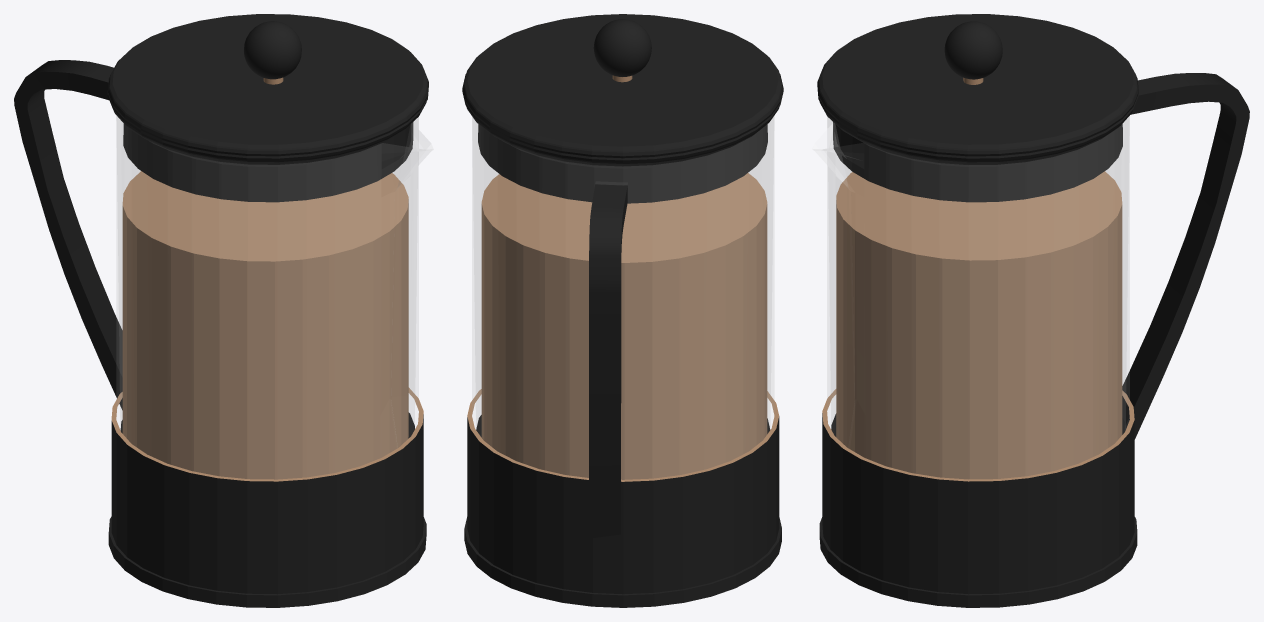
The model's file is 56c021d6-1fe5-4218-a496-bfd0285539f9.glb.
3 views of the same model, side by side, from view 1: azimuth 30°, elevation 25°; view 2: azimuth 150°, elevation 25°; view 3: azimuth 270°, elevation 25° (orthographic).
Visible parts, largest first — view 1: Cylinder005, Object002, Cylinder004, Box002, Sphere002; view 2: Cylinder005, Object002, Cylinder004, Box002, Sphere002; view 3: Cylinder005, Object002, Cylinder004, Box002, Sphere002.
Boxes of the visible parts, x1,y1,x2,y2 form: Cylinder005: (108, 116, 432, 607); Object002: (122, 171, 408, 479); Cylinder004: (107, 14, 428, 202); Box002: (14, 60, 122, 410); Sphere002: (244, 21, 301, 79); Cylinder005: (464, 116, 781, 607); Object002: (481, 173, 767, 479); Cylinder004: (462, 14, 783, 203); Box002: (589, 181, 627, 539); Sphere002: (593, 19, 651, 76); Cylinder005: (813, 116, 1137, 607); Object002: (836, 171, 1122, 479); Cylinder004: (817, 14, 1138, 202); Box002: (1122, 73, 1249, 439); Sphere002: (944, 21, 1002, 79).
Size of the model in its own units: 287788 by 512164 by 392086.
